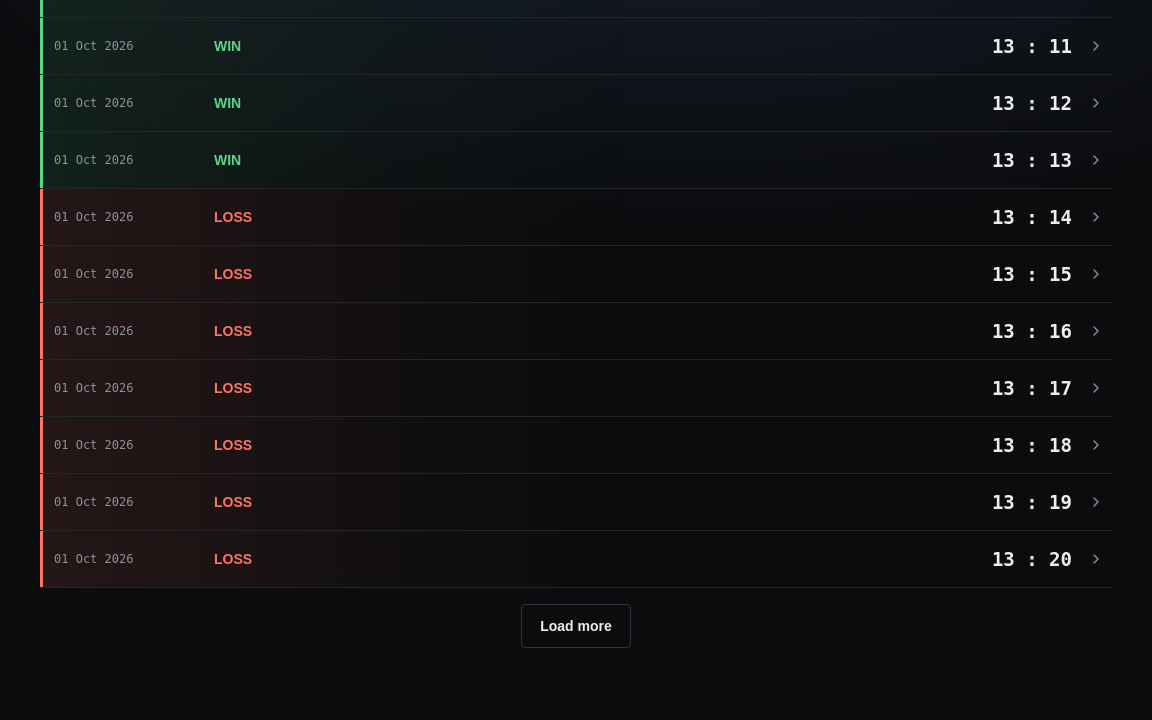
Test: PlayerPage › load more › keeps the loaded matches and the button when the next page fails
(page scrolled)
What coordinates should you click on to do the following:
click the button "Load more"
I would click on:
 (576, 626)
Its box is x1=521 y1=604 x2=631 y2=648.
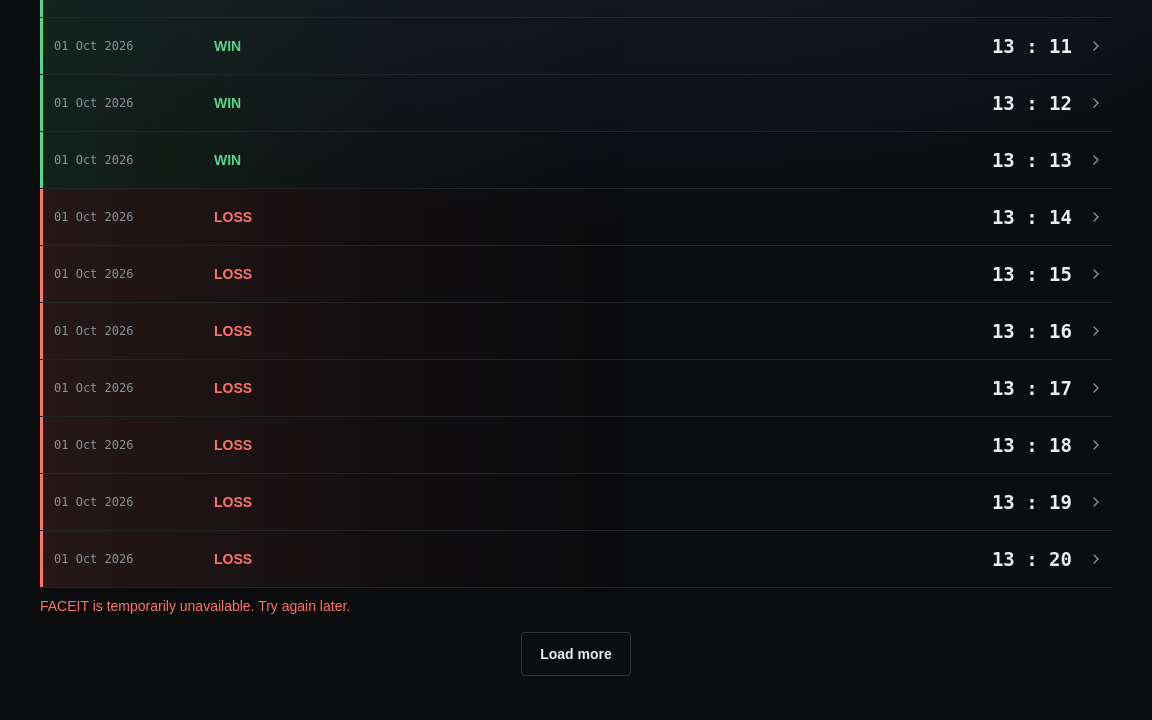
Expected: the button "Load more" is enabled, x1=521 y1=632 x2=631 y2=676
Now the text "FACEIT is temporarily unavailable. Try again later." is shown, box x1=40 y1=598 x2=350 y2=614
